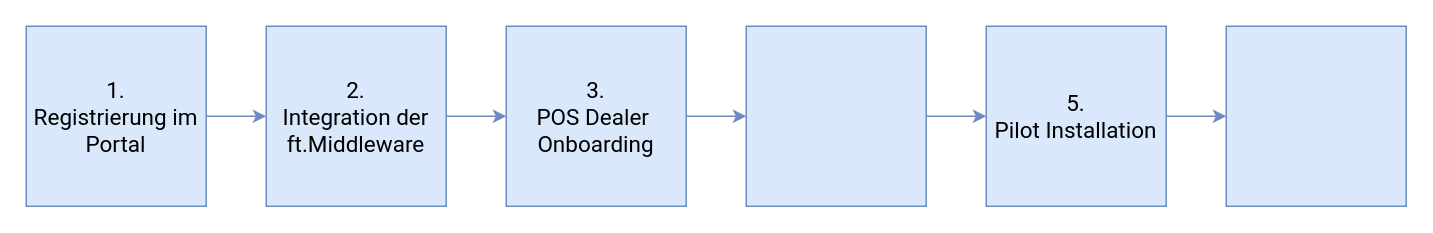
Some shapes in this 1433 by 233 pixel diagram are drawn without their labels. Each missing label, with the centre of its shape:
"4. Lösung komplexer Business Cases" goes at pixel 835 115.
"6. Handover an POS Dealer zum Rollout" goes at pixel 1315 115.
